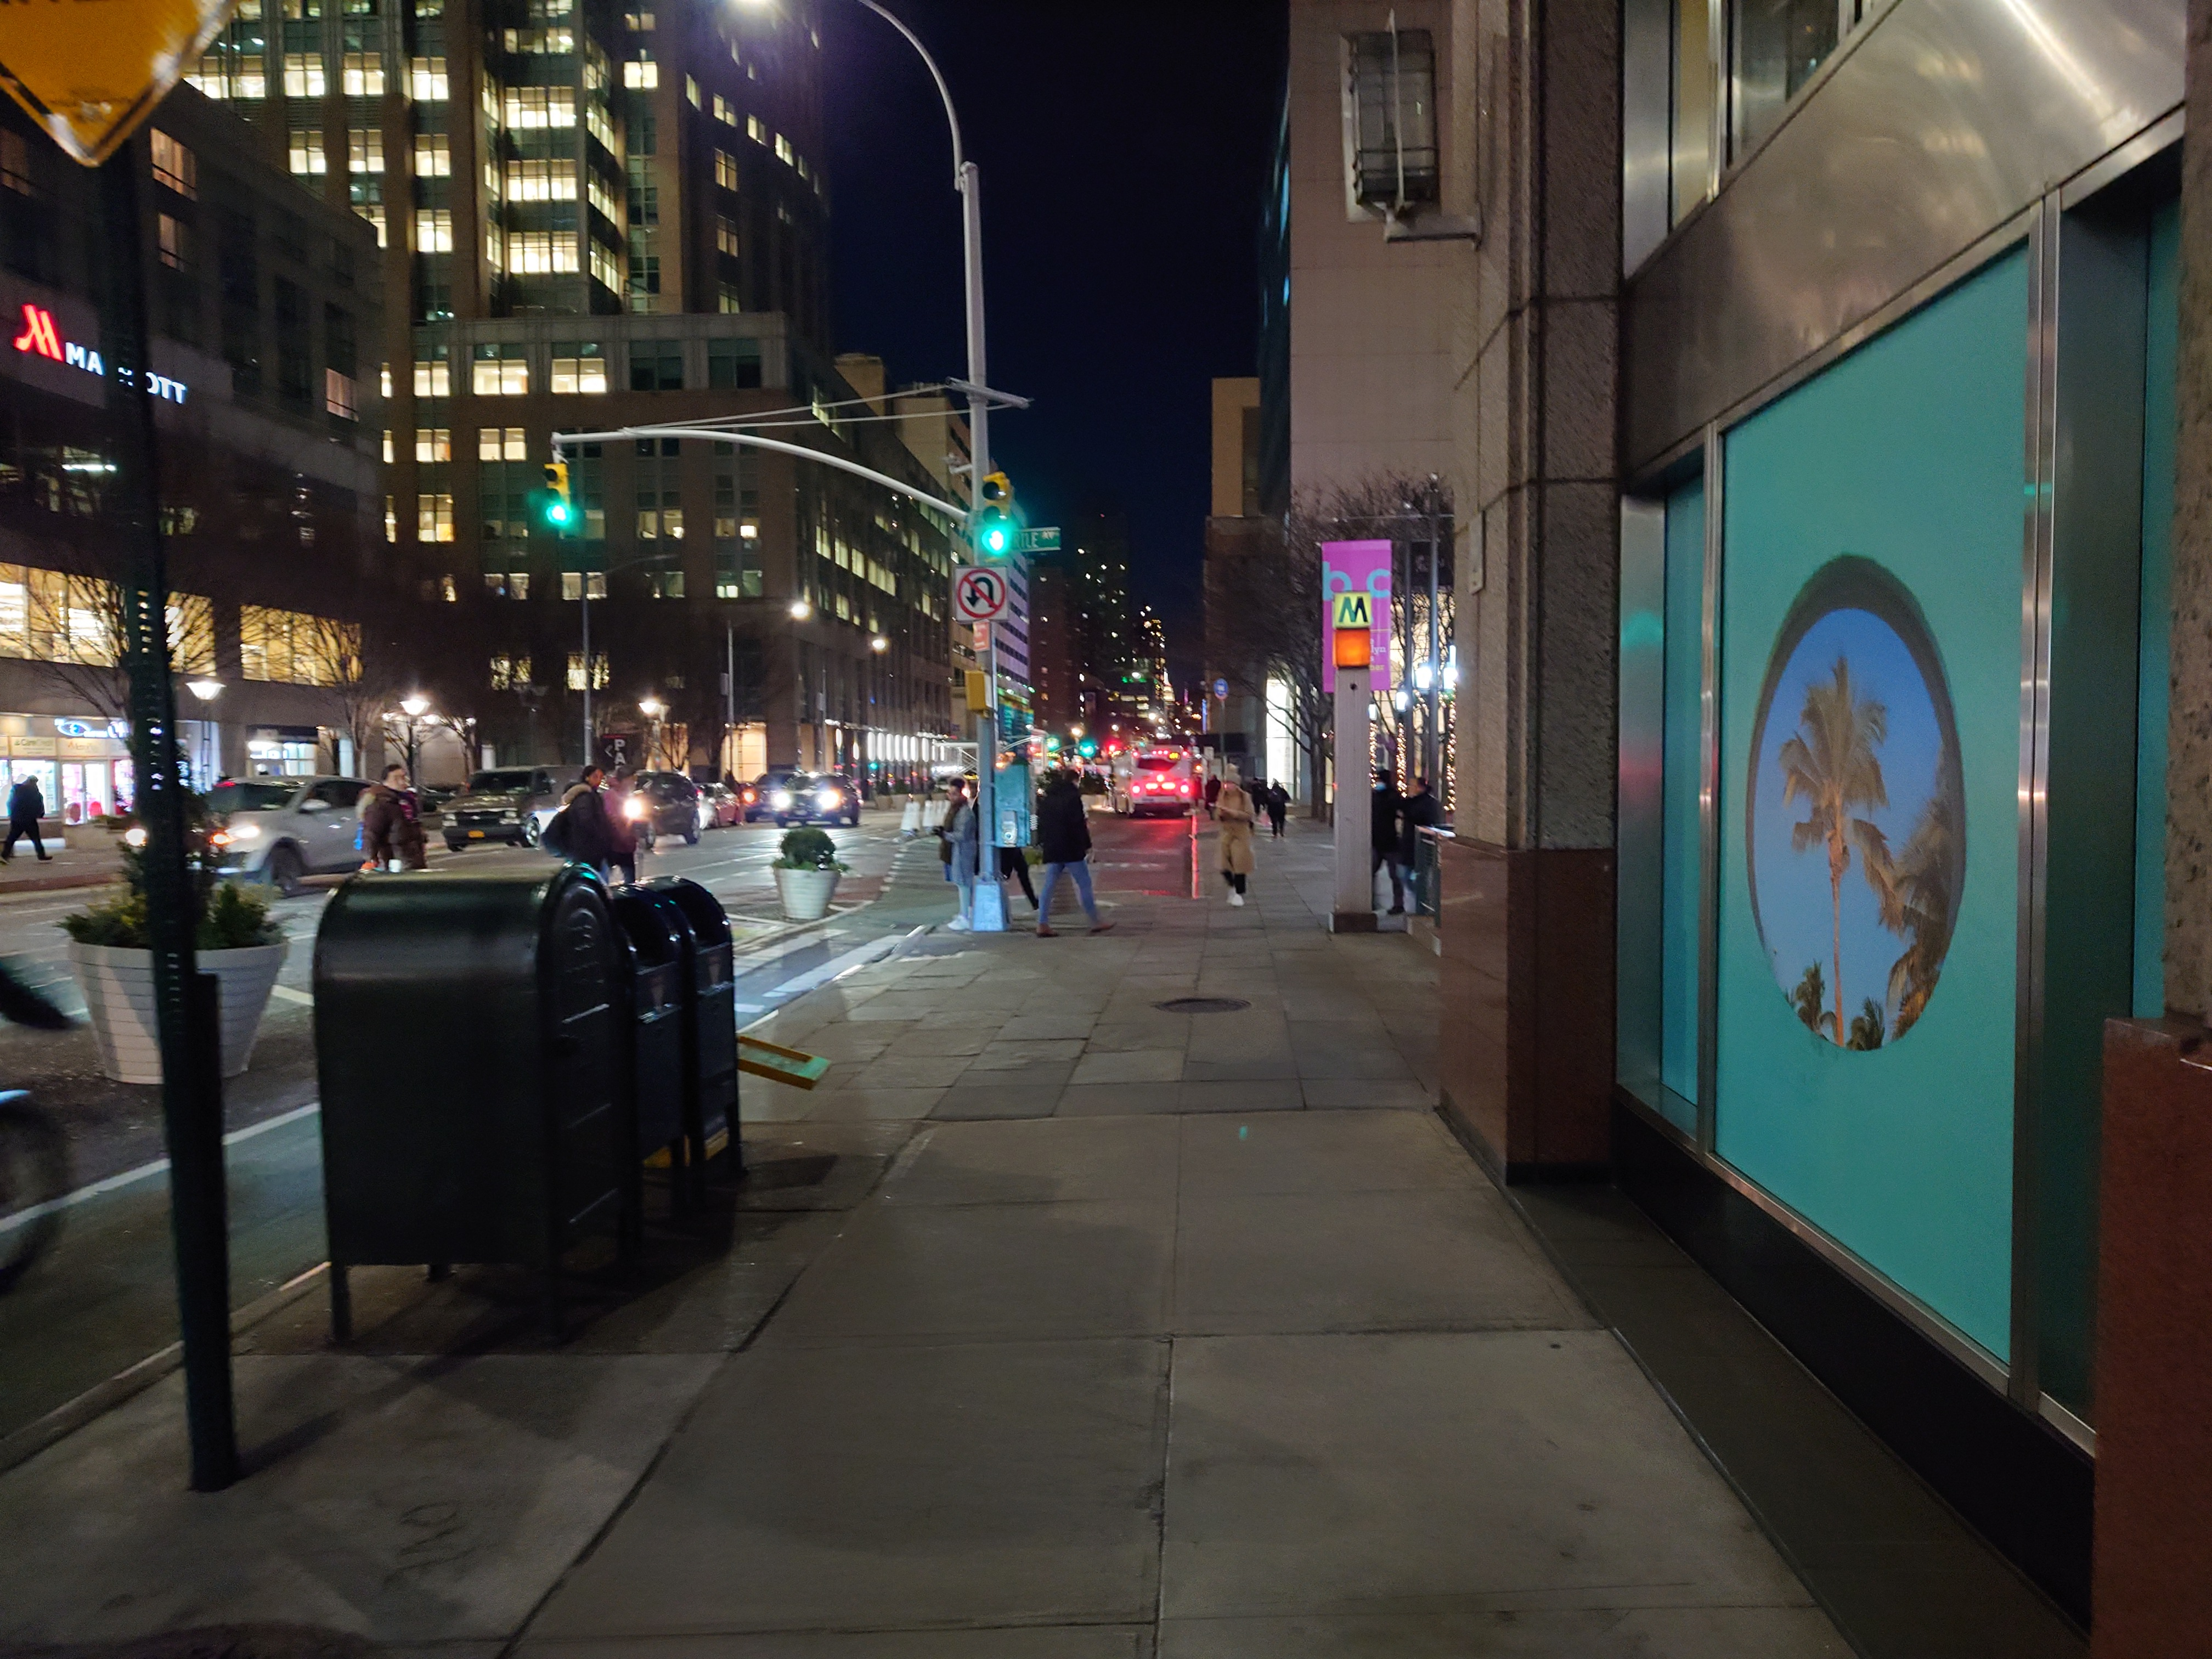car: (183, 775, 359, 884), (443, 766, 552, 847), (1109, 747, 1193, 817), (774, 772, 861, 828), (638, 770, 699, 847), (698, 779, 736, 830), (746, 769, 776, 826)
person: (1041, 769, 1110, 935), (1209, 777, 1264, 912), (358, 763, 426, 870), (546, 765, 606, 870), (941, 780, 978, 929), (1370, 769, 1404, 915), (2, 775, 55, 864), (601, 765, 637, 887), (1406, 777, 1442, 826), (1266, 777, 1291, 839)
